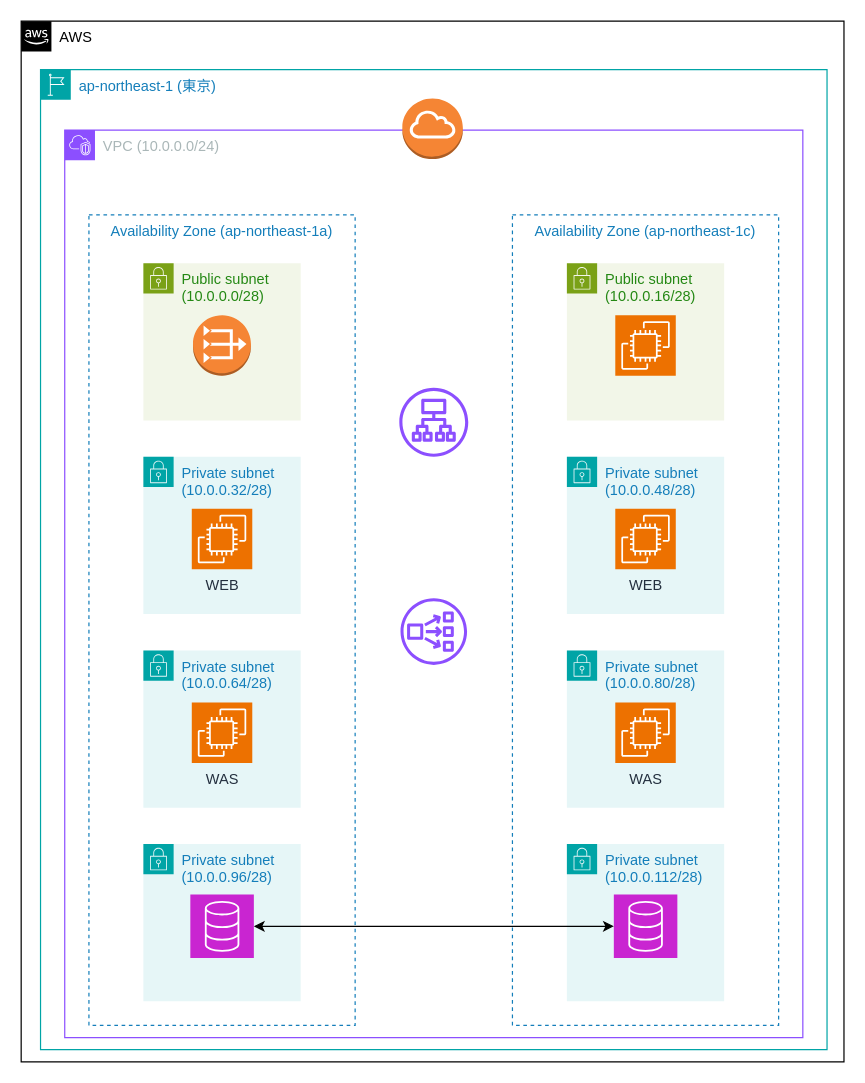
This 865x1083 diagram has some shape labels left out. The shapes that lost their labels are listed below. From the top down, each one's centre as x and y in pixels, then its label:
[432,128]: Internet Gateway
[221,345]: NAT Gatway
[645,345]: Bastion Server
[433,421]: ALB
[433,631]: NLB
[221,925]: RDS (Writer)
[645,925]: RDS (Reader)
